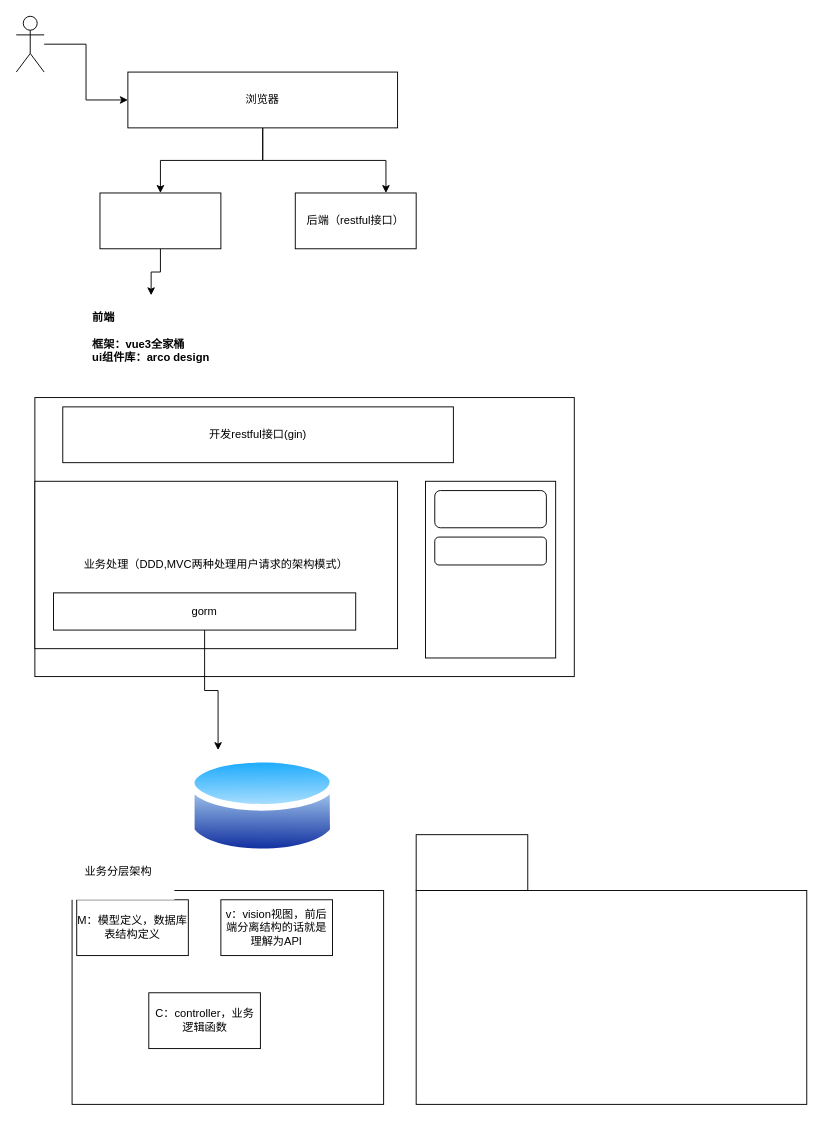
The diagram is 823 pixels wide and 1121 high, and some of its shapes have lost their labels. Here are the shapes that lost their labels. From the top down, the centre of each, then its label:
the point at 29,43: Actor
the point at 160,220: 前端（静态服务器）
the point at 490,509: 配置管理（env环境变量，toml格式）
the point at 490,550: cli（cobra）
the point at 262,806: 数据库
